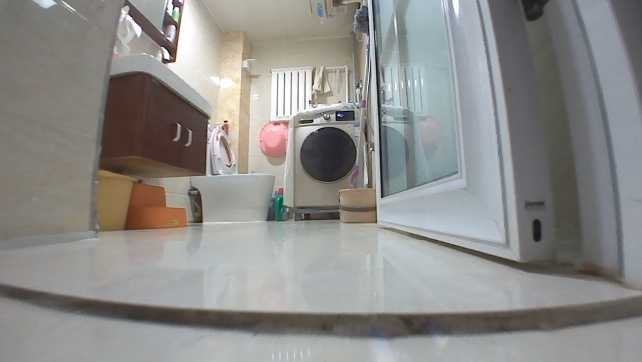door_sill: (0, 276, 640, 345)
toilet: (192, 134, 270, 222)
washing_machine: (277, 105, 372, 219)
washstand: (99, 52, 213, 177)
